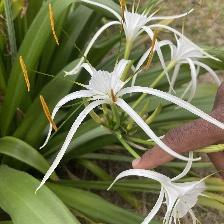spider lily: (77, 63, 148, 119)
